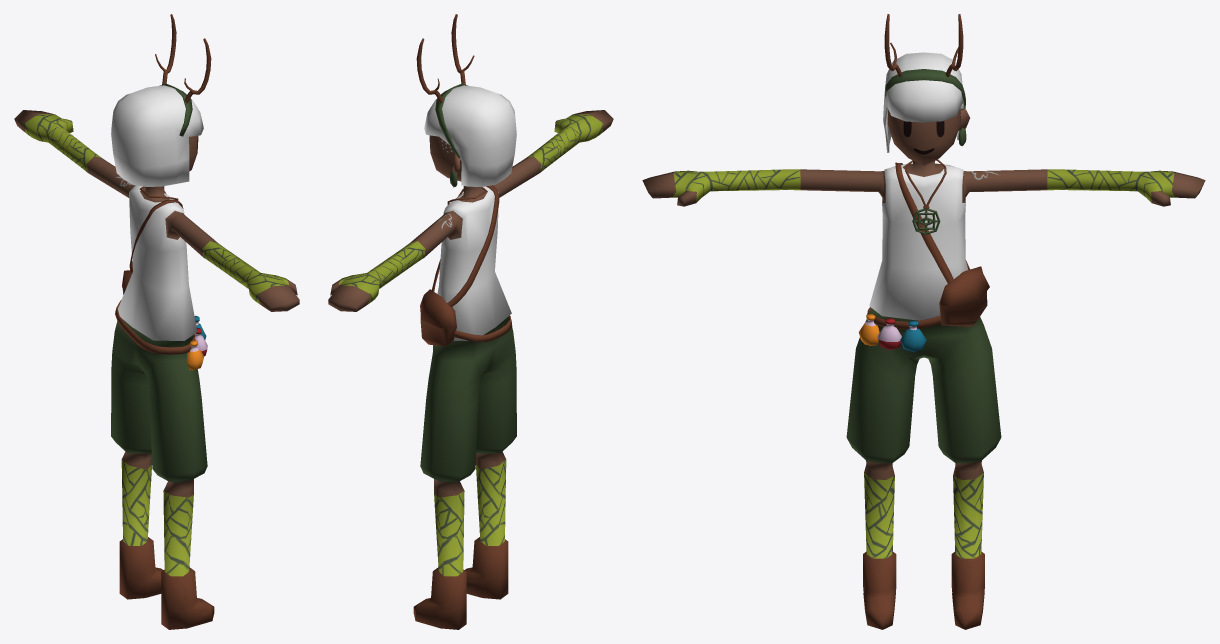
Rendered from druid1.fbx.
3 views of the same model, side by side, from view 1: azimuth 30°, elevation 25°; view 2: azimuth 150°, elevation 25°; view 3: azimuth 270°, elevation 25° (orthographic). The views are drawn at different scales.
Parts seen in each view (by area): view 1: druid_cialo, druid_wlosy, druid_rogi, druid_pas.003, druid_torba; view 2: druid_cialo, druid_wlosy, druid_torba, druid_rogi, druid_glowa, druid_pas.003; view 3: druid_cialo, druid_wlosy, druid_torba, druid_glowa, druid_rogi.
Part boxes in pixels (x1,y1,x2,y2): druid_cialo: (14,110,299,629); druid_wlosy: (111,85,203,186); druid_rogi: (155,14,211,136); druid_pas.003: (115,300,195,354); druid_torba: (122,199,183,294); druid_cialo: (328,110,613,629); druid_wlosy: (424,85,516,186); druid_torba: (420,185,499,346); druid_rogi: (416,14,474,158); druid_glowa: (429,135,461,181); druid_pas.003: (453,315,512,341); druid_cialo: (642,160,1205,629); druid_wlosy: (883,52,964,152); druid_torba: (895,162,989,326); druid_glowa: (887,108,969,165); druid_rogi: (884,14,965,108).
Size of the model in its own units: 27.21 by 184 by 154.
Materials: 10 (3 with a texture image).
